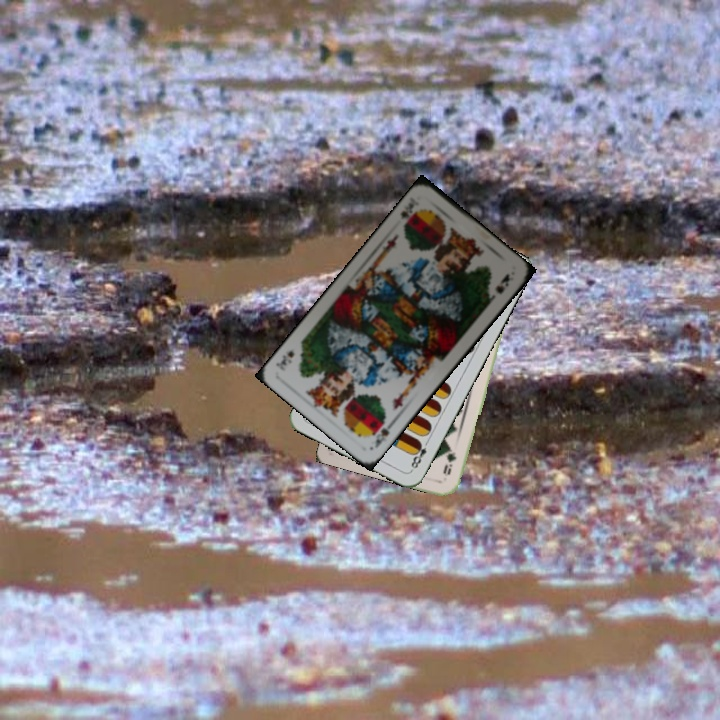E8: (407, 435, 432, 473)
G9: (439, 443, 459, 478)
SK: (369, 416, 398, 451), (396, 200, 420, 222)
